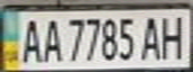5: (115, 14, 139, 62)
7: (81, 15, 103, 62), (63, 15, 84, 62)
8: (100, 15, 121, 62)
A: (18, 15, 45, 64), (139, 12, 166, 61), (39, 15, 63, 63)
H: (157, 11, 190, 60)
